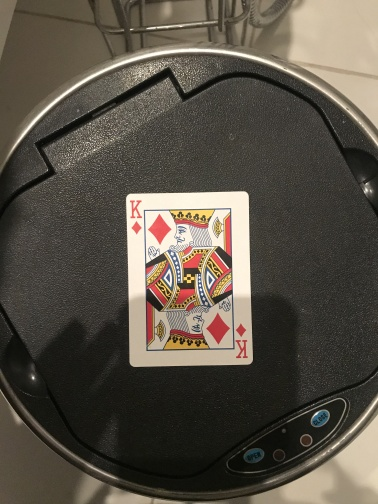king: (125, 190, 254, 368)
